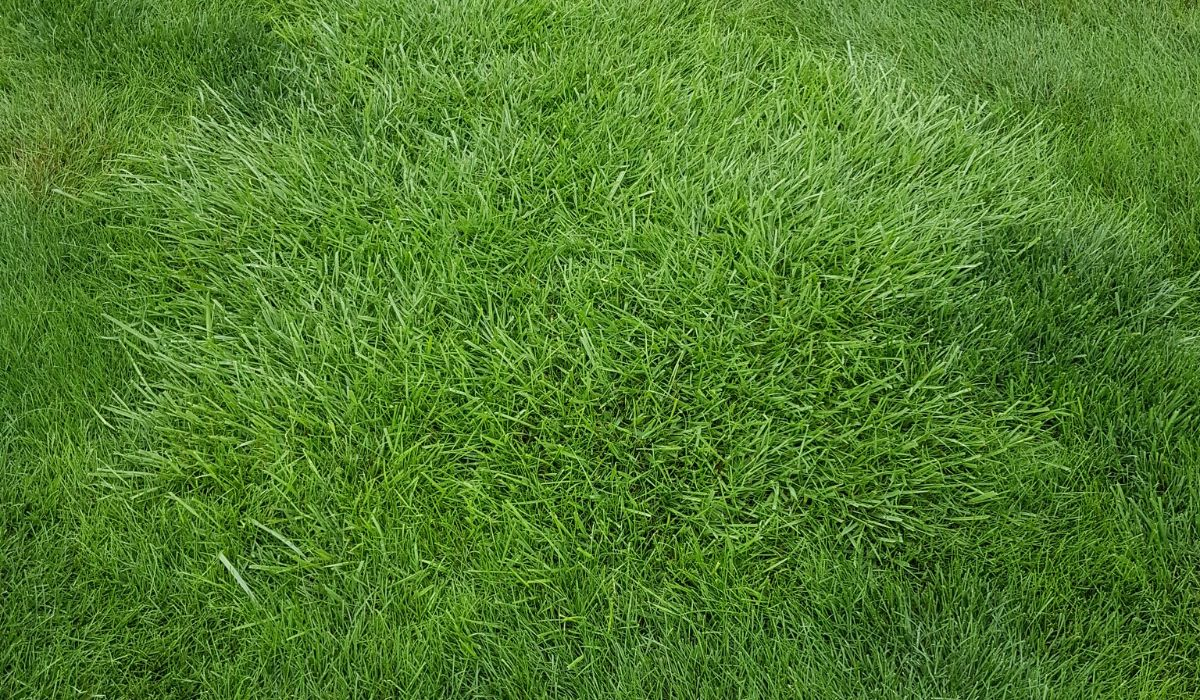grass: (1, 1, 1197, 696)
